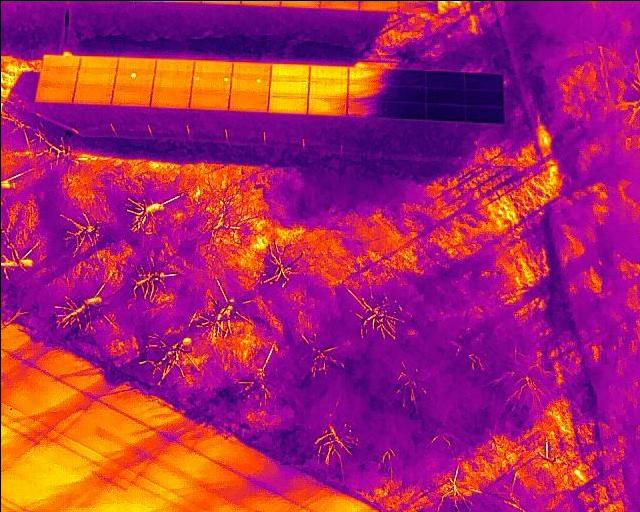Cell: (231, 77, 269, 94), (114, 73, 152, 90)
Cell-Multi: (190, 76, 230, 92)
No-Anomaly: (269, 78, 308, 97), (308, 97, 346, 116), (268, 95, 307, 113), (190, 92, 229, 110), (150, 90, 189, 108), (35, 85, 74, 103), (72, 87, 112, 104), (308, 80, 345, 98), (229, 93, 268, 110), (230, 61, 269, 78), (110, 89, 151, 105), (79, 56, 117, 73), (153, 74, 192, 90), (76, 72, 115, 88), (270, 63, 309, 79), (117, 57, 156, 73), (156, 59, 193, 75), (192, 60, 231, 75), (310, 63, 346, 79), (42, 56, 78, 72), (38, 72, 76, 87)
Shadowing: (381, 99, 424, 118), (424, 104, 466, 122), (382, 82, 426, 99), (307, 97, 346, 116), (425, 86, 466, 104), (426, 68, 466, 86), (466, 104, 503, 122), (465, 87, 502, 105), (345, 97, 381, 115), (347, 80, 383, 98), (382, 66, 425, 81), (466, 72, 502, 86), (346, 66, 382, 79)
